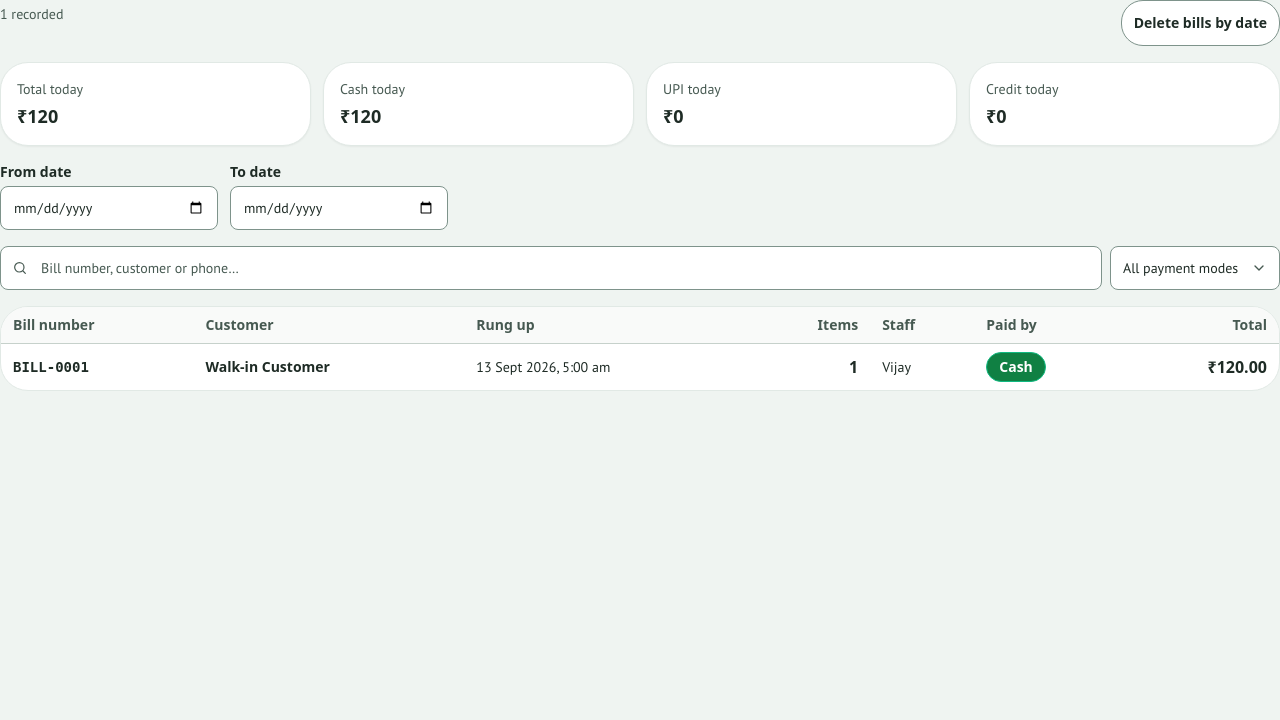
owner › has both delete controls
Expected: the button "Delete bills by date" is shown, 1121,0 -> 1279,46
Click the text "BILL-0001". click: (51, 367)
box: 13,359 -> 89,375
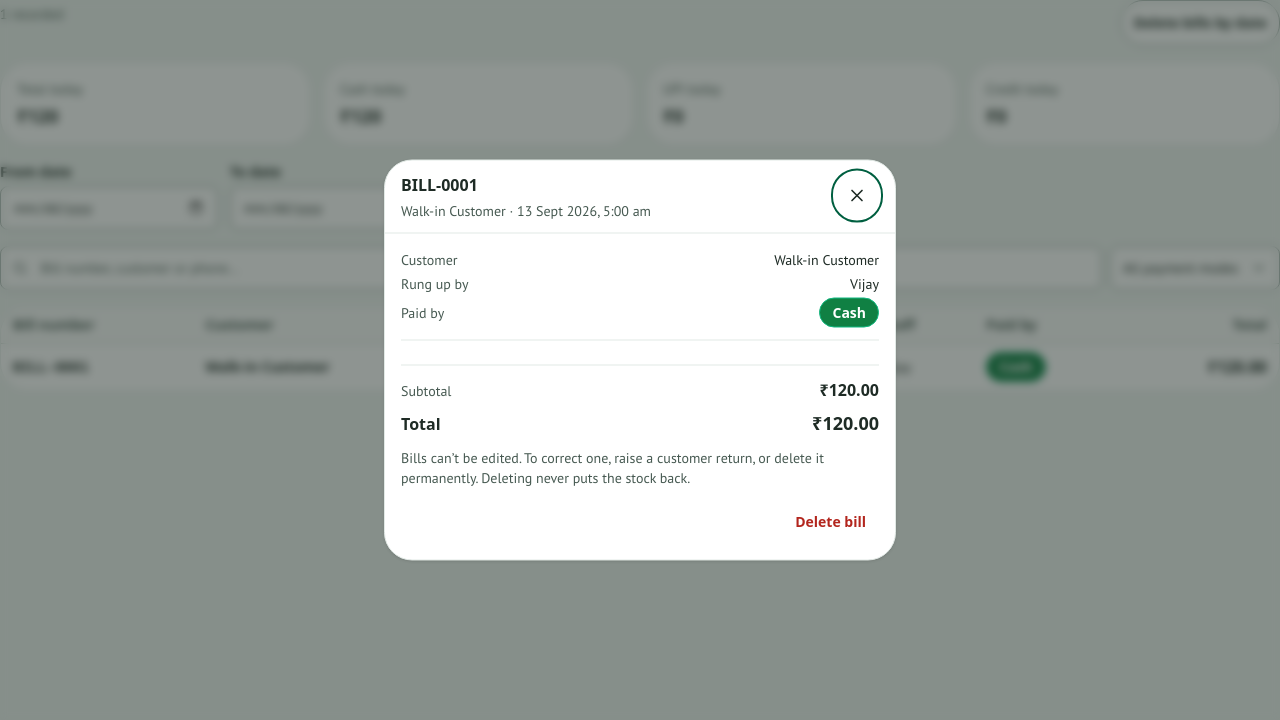
Now the button "Delete bill" is shown, box 782,500 -> 879,544
